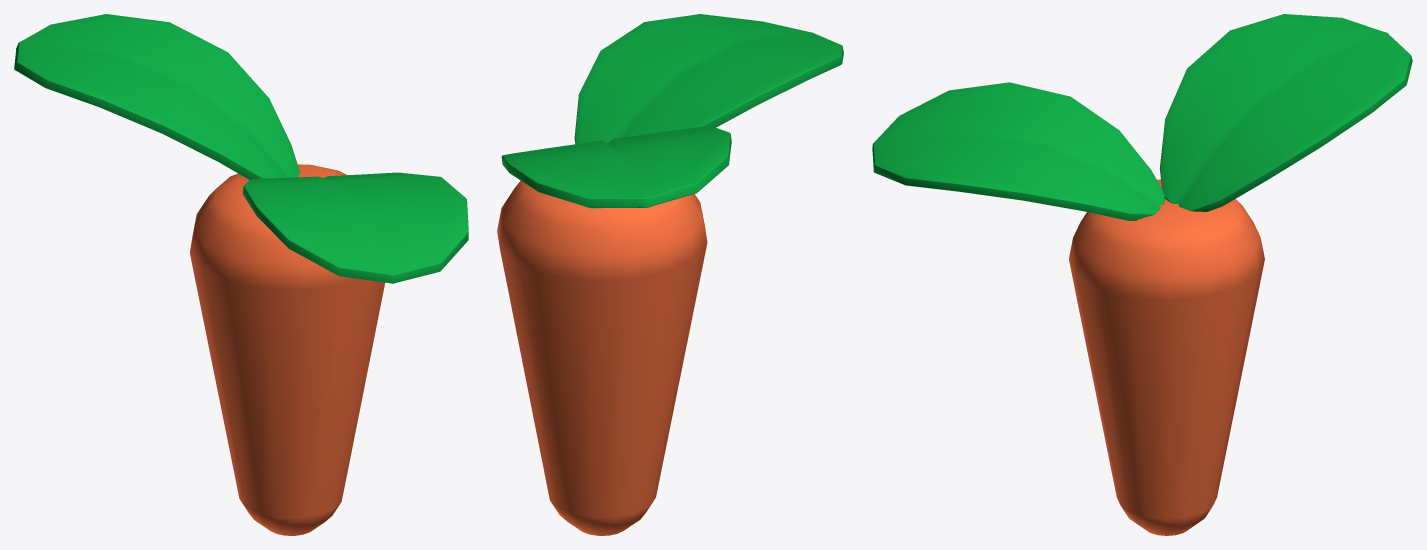
Rendered from Store_10_Carrot_1.glb.
The picture shows the model from 3 angles, left to right: view 1: azimuth 30°, elevation 25°; view 2: azimuth 150°, elevation 25°; view 3: azimuth 270°, elevation 25°; orthographic projection. The views are drawn at different scales.
Parts seen in each view (by area): view 1: Store_10_Carrot_1; view 2: Store_10_Carrot_1; view 3: Store_10_Carrot_1.
Part boxes in pixels (left/top/right/bottom): Store_10_Carrot_1: left=14, top=14, right=468, bottom=535; Store_10_Carrot_1: left=497, top=14, right=843, bottom=535; Store_10_Carrot_1: left=872, top=14, right=1412, bottom=535.
Size of the model in its own units: 0.2211 by 0.3481 by 0.3952.
1 material, 1 textured.
